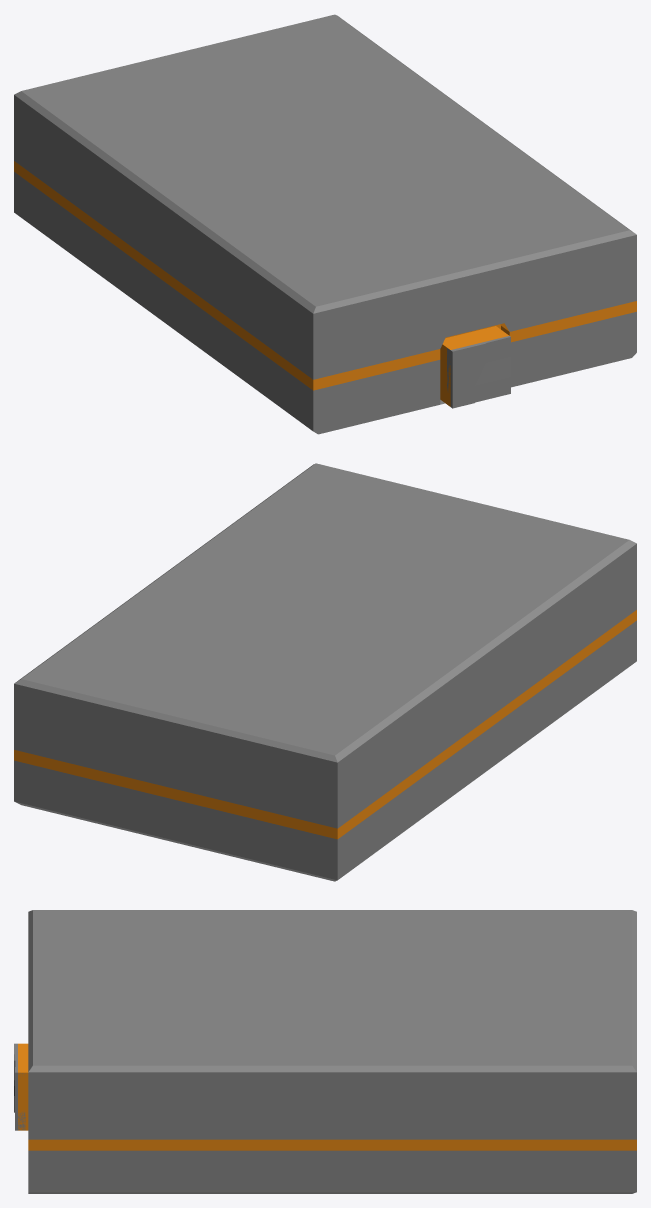
Rendered from Lab_Interno.fbx.
3 renders of one model, top to bottom at view 1: azimuth 30°, elevation 25°; view 2: azimuth 150°, elevation 25°; view 3: azimuth 270°, elevation 25°, orthographic.
Parts seen in each view (by area): view 1: Cube, Cube.003, Cube.002; view 2: Cube; view 3: Cube.
Boxes of the visible parts, <box> form: Cube: <box>14,14,636,434</box>; Cube.003: <box>447,342,486,408</box>; Cube.002: <box>475,336,510,402</box>; Cube: <box>14,463,636,881</box>; Cube: <box>18,910,636,1193</box>.
Bounding box in the file's own units: 2497 × 929 × 4093.
